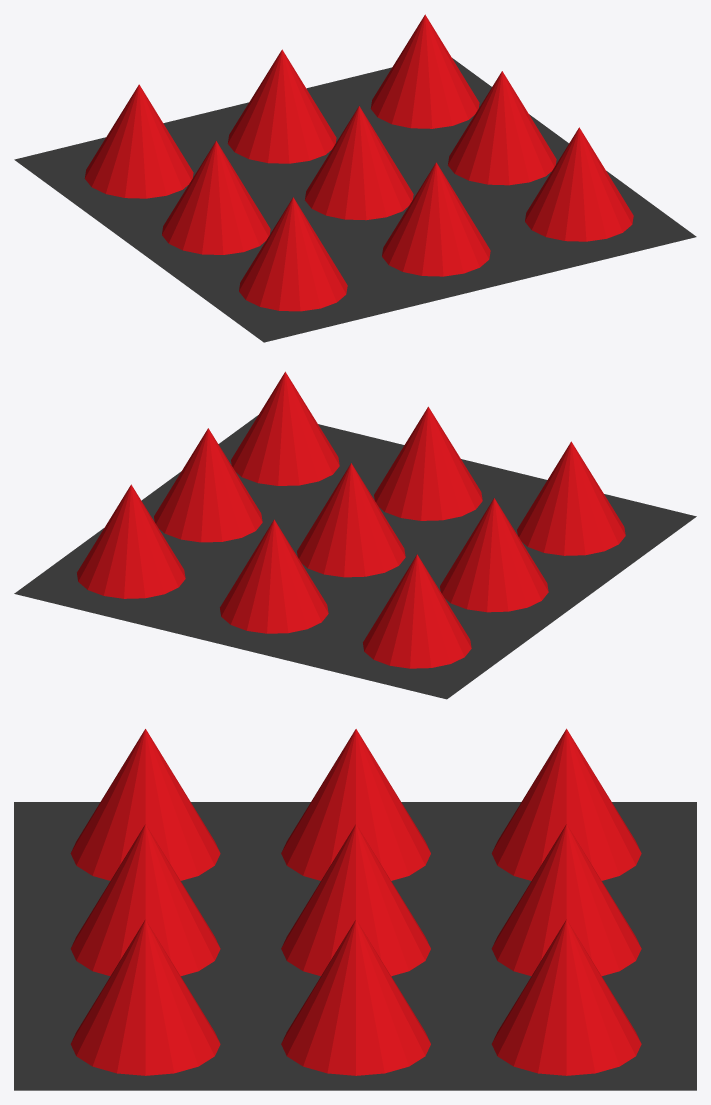
The model's file is ban chong.fbx.
3 views of the same model, one above another, from view 1: azimuth 30°, elevation 25°; view 2: azimuth 150°, elevation 25°; view 3: azimuth 270°, elevation 25° (orthographic). The views are drawn at different scales.
Parts seen in each view (by area): view 1: Cylinder.002, Plane; view 2: Cylinder.002, Plane; view 3: Cylinder.002, Plane.
Boxes of the visible parts, x1,y1,x2,y2 form: Cylinder.002: (84, 14, 633, 311); Plane: (14, 58, 696, 342); Cylinder.002: (77, 371, 625, 668); Plane: (14, 415, 696, 699); Cylinder.002: (70, 728, 641, 1075); Plane: (14, 802, 696, 1090).
Bounding box in the file's own units: 200 × 40.51 × 200.
